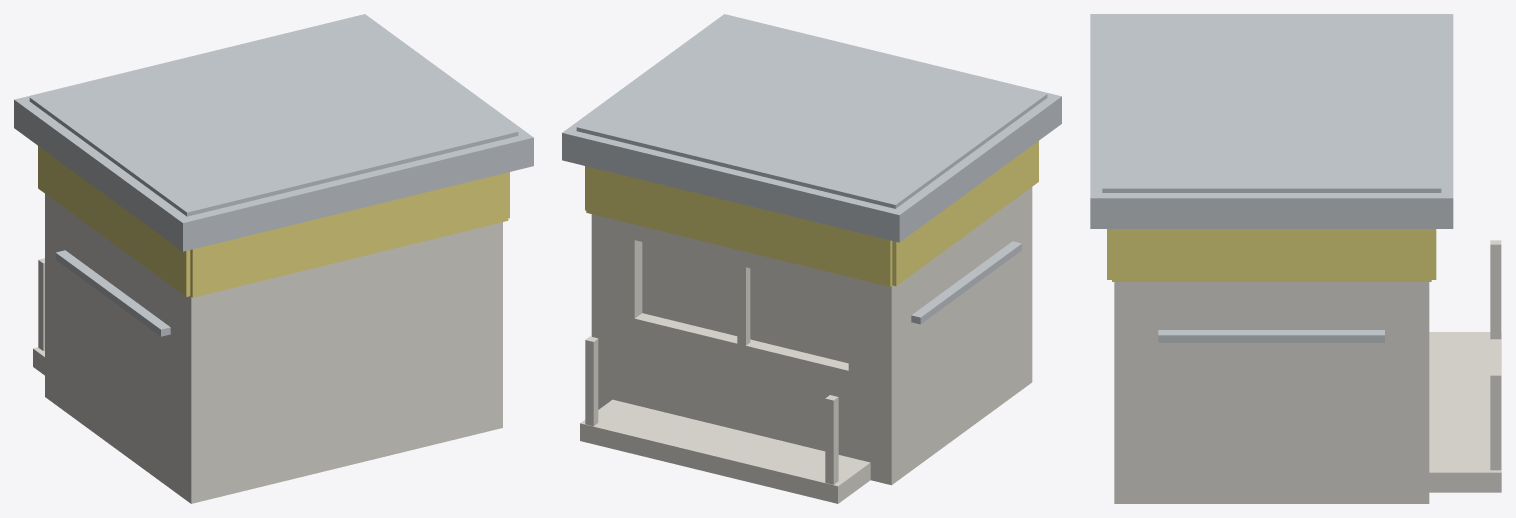
Rendered from marshal.glb.
3 renders of one model, left to right at view 1: azimuth 30°, elevation 25°; view 2: azimuth 150°, elevation 25°; view 3: azimuth 270°, elevation 25°, orthographic. The views are drawn at different scales.
Parts seen in each view (by area): view 1: metal.panel, metal.trim, hazard.stripe; view 2: metal.panel, metal.trim, hazard.stripe; view 3: metal.trim, metal.panel, hazard.stripe.
Part boxes in pixels (x1,y1,x2,y2): metal.panel: (33,194,502,503); metal.trim: (14,14,533,336); hazard.stripe: (38,146,509,297); metal.panel: (580,187,1032,503); metal.trim: (562,14,1061,324); hazard.stripe: (585,141,1038,286); metal.trim: (1090,14,1453,342); metal.panel: (1114,240,1501,503); hazard.stripe: (1107,229,1436,281).
Size of the model in its own units: 3.6 by 2.92 by 3.4.
